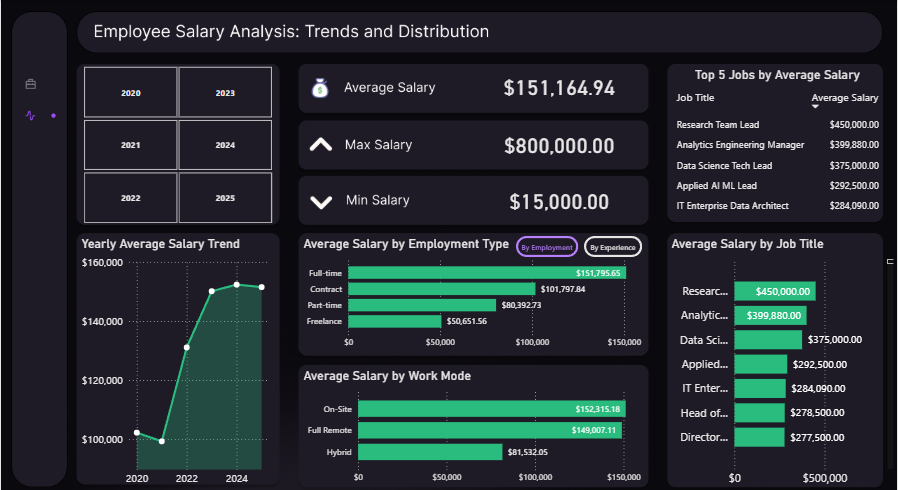

Layout of this report page (visuals, bound fields, positions):
{"tool":"powerbi","page":{"name":"Analysis","canvas":[1280,720],"ordinal":1},"visuals":[{"type":"card","fields":{"Values":["salaries_cleaned.average_salary"]},"box":[675,88.3,246.7,68.3],"z":0},{"type":"card","fields":{"Values":["salaries_cleaned.max_salary"]},"box":[675,168.3,246.7,75],"z":1000},{"type":"clusteredBarChart","fields":{"Y":["salaries_cleaned.average_salary"],"Category":["salaries_cleaned.job_title"]},"box":[953.3,336.7,326.7,366.7],"z":2000},{"type":"lineChart","title":"Yearly Average Salary Trend","fields":{"Category":["salaries_cleaned.work_year"],"Y":["salaries_cleaned.average_salary"]},"box":[110,336.7,283.3,366.7],"z":3000},{"type":"card","fields":{"Values":["salaries_cleaned.min_salary"]},"box":[675,256.7,246.7,58.3],"z":4000},{"type":"clusteredBarChart","title":"Average Salary by Employment Type","fields":{"Category":["salaries_cleaned.employment_type"],"Y":["salaries_cleaned.average_salary"]},"box":[426.7,336.7,495,170],"z":5000},{"type":"clusteredBarChart","title":"Average Salary by Work Mode","fields":{"Y":["salaries_cleaned.average_salary"],"Category":["salaries_cleaned.remote_type"]},"box":[427.1,525.7,494.3,174.3],"z":6000},{"type":"tableEx","title":"Top 5 Jobs by Average Salary","fields":{"Values":["salaries_cleaned.job_title","salaries_cleaned.average_salary"]},"box":[953.8,96.2,310,228.8],"z":7000},{"type":"slicer","fields":{"Values":["salaries_cleaned.work_year"]},"box":[93.3,88.3,318.3,236.7],"z":8000},{"type":"image","box":[434.3,104.3,42.9,42.9],"z":9000},{"type":"image","box":[432.9,182.9,48.6,45.7],"z":10000},{"type":"image","box":[430,266.7,55,45],"z":11000},{"type":"actionButton","box":[16.7,102.2,76.7,40],"z":12000},{"type":"actionButton","box":[833.1,336.9,83.1,30],"z":17000},{"type":"actionButton","box":[735,337,89,30],"z":17001}]}

Visuals, with their boxes on the page's 1280x720 design canvas (x1, y1, x2, y2). These are canvas units, not pixel positions in the 898x490 screenshot, which may show the page scaled, cropped or inside an application window:
card - salaries_cleaned.average_salary: rect(675, 88, 922, 157)
card - salaries_cleaned.max_salary: rect(675, 168, 922, 243)
clusteredBarChart - salaries_cleaned.average_salary x salaries_cleaned.job_title: rect(953, 337, 1280, 703)
"Yearly Average Salary Trend" lineChart: rect(110, 337, 393, 703)
card - salaries_cleaned.min_salary: rect(675, 257, 922, 315)
"Average Salary by Employment Type" clusteredBarChart: rect(427, 337, 922, 507)
"Average Salary by Work Mode" clusteredBarChart: rect(427, 526, 921, 700)
"Top 5 Jobs by Average Salary" tableEx: rect(954, 96, 1264, 325)
slicer - salaries_cleaned.work_year: rect(93, 88, 412, 325)
image: rect(434, 104, 477, 147)
image: rect(433, 183, 482, 229)
image: rect(430, 267, 485, 312)
actionButton: rect(17, 102, 93, 142)
actionButton: rect(833, 337, 916, 367)
actionButton: rect(735, 337, 824, 367)
